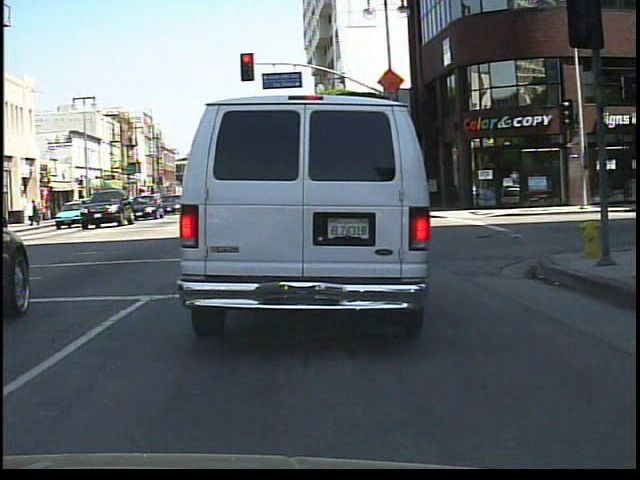person: (28, 197, 43, 229)
